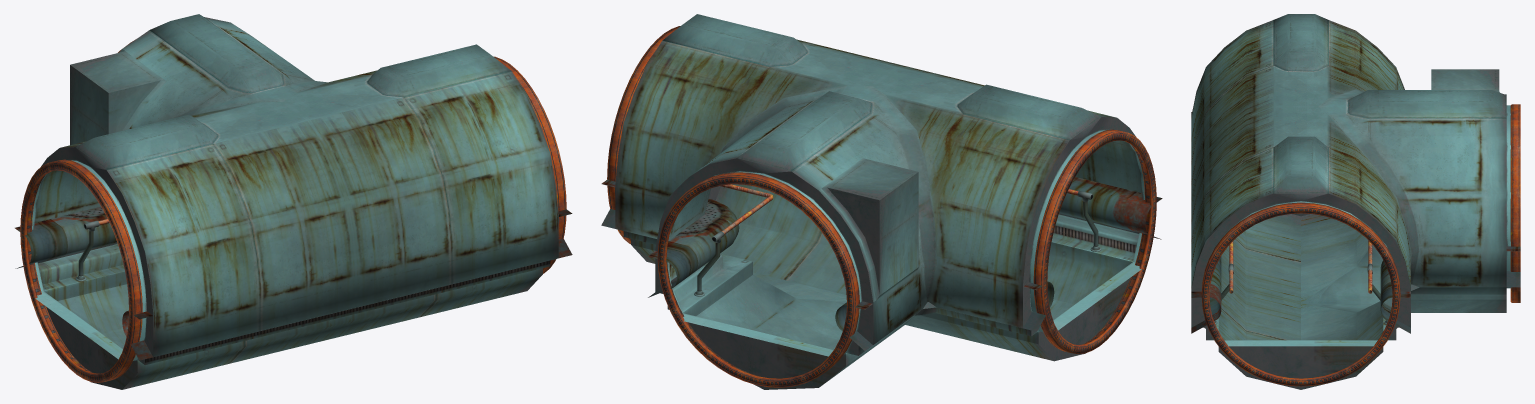
The model's file is phi_tunnel_3way.DAE.
3 renders of one model, left to right at view 1: azimuth 30°, elevation 25°; view 2: azimuth 150°, elevation 25°; view 3: azimuth 270°, elevation 25°, orthographic. The views are drawn at different scales.
Parts seen in each view (by area): view 1: polySurface399-Pivot, pPipe55-Pivot, polySurface398-Pivot, pPipe54-Pivot, pCylinder89-Pivot, railing_pplant_short_chainlink9-Pivot; view 2: polySurface399-Pivot, pPipe56-Pivot, pPipe55-Pivot, polySurface397-Pivot, pCylinder89-Pivot, pPipe54-Pivot, polySurface398-Pivot, railing_pplant_short_chainlink15-Pivot, railing_pplant_short_chainlink12-Pivot; view 3: polySurface399-Pivot, pPipe54-Pivot, pPipe56-Pivot, polySurface397-Pivot, pCylinder89-Pivot, railing_pplant_short_chainlink8-Pivot, railing_pplant_short_chainlink11-Pivot.
Boxes of the visible parts, x1,y1,x2,y2 form: polySurface399-Pivot: (32, 14, 558, 389); pPipe55-Pivot: (20, 159, 142, 382); polySurface398-Pivot: (15, 207, 117, 268); pPipe54-Pivot: (494, 56, 566, 273); pCylinder89-Pivot: (122, 209, 572, 360); railing_pplant_short_chainlink9-Pivot: (75, 219, 109, 281); polySurface399-Pivot: (615, 14, 1144, 389); pPipe56-Pivot: (657, 172, 859, 387); pPipe55-Pivot: (1033, 129, 1156, 353); polySurface397-Pivot: (601, 179, 739, 297); pCylinder89-Pivot: (1059, 177, 1162, 239); pPipe54-Pivot: (607, 26, 680, 244); polySurface398-Pivot: (835, 266, 1054, 350); railing_pplant_short_chainlink15-Pivot: (694, 211, 751, 296); railing_pplant_short_chainlink12-Pivot: (1067, 189, 1101, 251); polySurface399-Pivot: (1191, 14, 1511, 389); pPipe54-Pivot: (1201, 202, 1400, 386); pPipe56-Pivot: (1510, 104, 1520, 302); polySurface397-Pivot: (1380, 246, 1520, 333); pCylinder89-Pivot: (1191, 112, 1221, 333); railing_pplant_short_chainlink8-Pivot: (1367, 243, 1387, 324); railing_pplant_short_chainlink11-Pivot: (1214, 243, 1233, 324).
Bounding box in the file's own units: 8 × 4.17 × 6.
